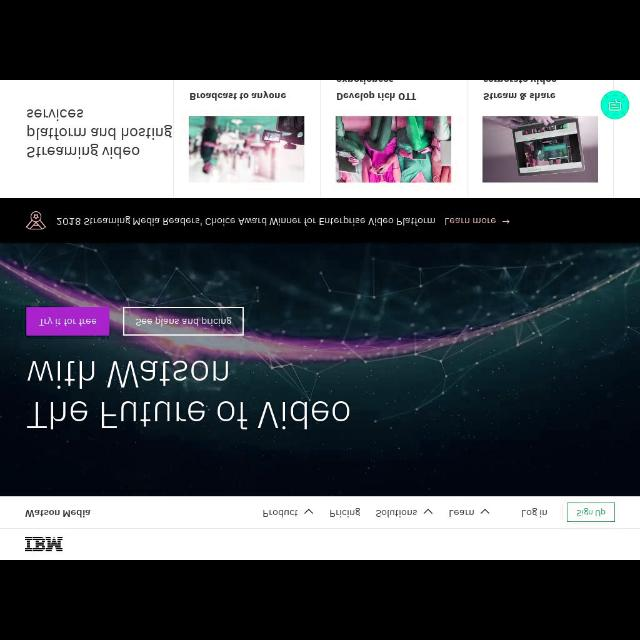backgroundimage: (2, 199, 640, 496)
button: (603, 92, 627, 120)
icon: (26, 209, 46, 235), (609, 100, 623, 112), (421, 508, 433, 518), (303, 508, 315, 516), (481, 508, 491, 516), (502, 218, 511, 226)
image: (189, 116, 305, 184), (336, 116, 452, 184), (482, 116, 598, 182), (24, 536, 64, 554)
spinner: (375, 508, 433, 520), (262, 508, 316, 520), (449, 506, 491, 520)
text: (27, 398, 349, 432), (25, 109, 173, 161), (25, 358, 228, 388), (56, 215, 436, 227), (136, 316, 232, 328), (190, 92, 286, 102), (40, 314, 96, 328), (337, 90, 415, 100), (482, 92, 556, 101), (26, 509, 90, 518), (443, 216, 497, 226), (329, 508, 361, 520), (377, 510, 418, 518), (522, 507, 548, 519), (576, 508, 606, 518), (263, 509, 299, 517), (450, 509, 474, 517), (338, 82, 390, 85), (485, 81, 557, 83)
textbutton: (122, 308, 244, 337), (24, 309, 108, 335), (566, 501, 616, 523)
toolbar: (2, 498, 638, 526)
